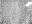person: (25, 1, 31, 8)
